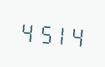five: (35, 18, 51, 46)
four: (18, 17, 34, 45), (69, 21, 85, 49)
one: (52, 20, 68, 48)
